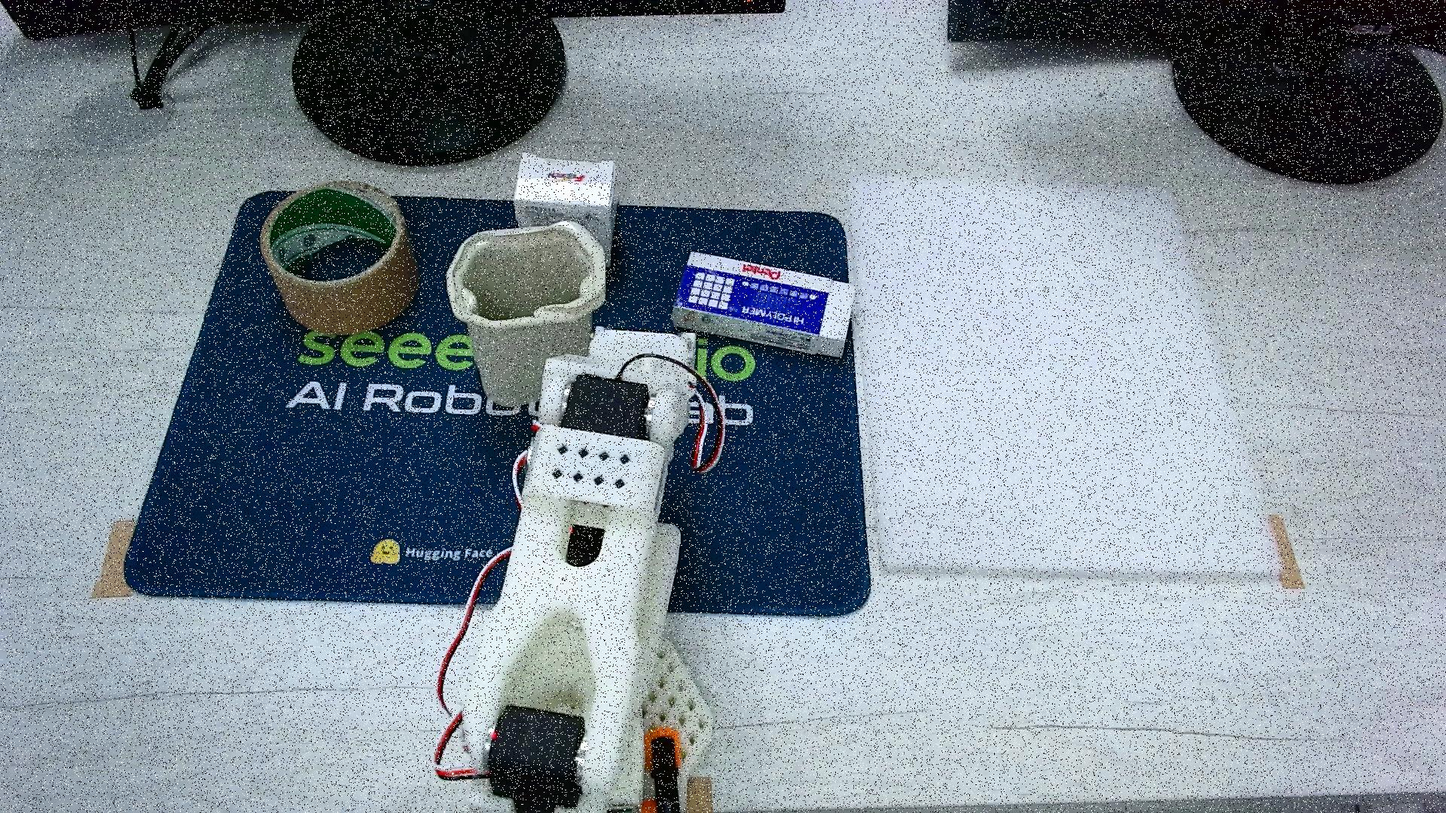eraser: (514, 153, 617, 266)
